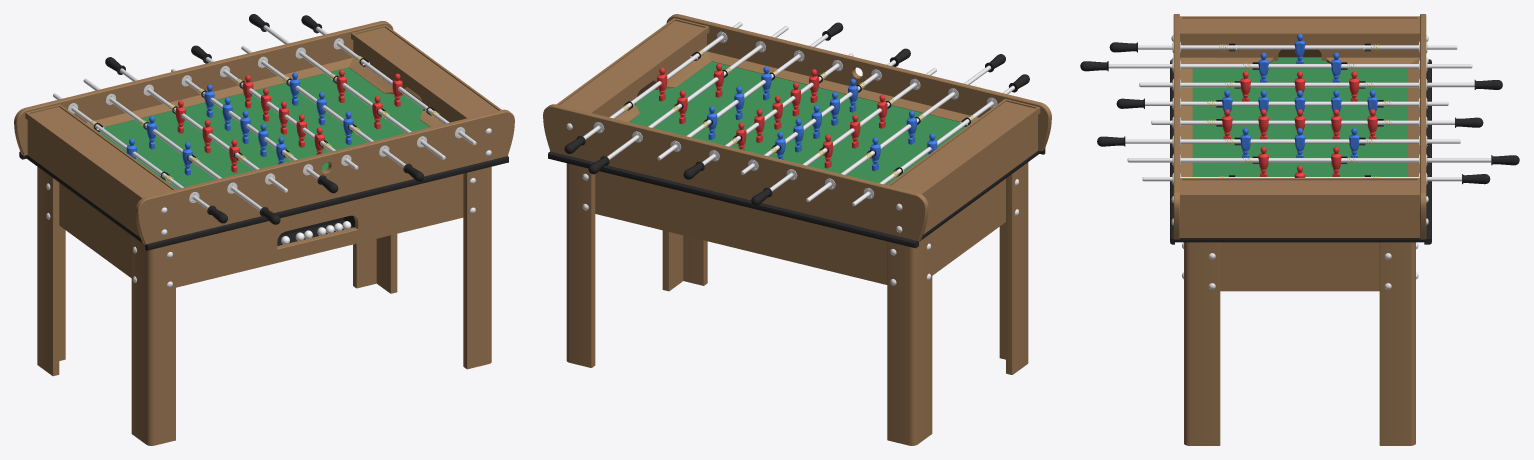
The model's file is futbolin_madrid.glb.
3 renders of one model, left to right at view 1: azimuth 30°, elevation 25°; view 2: azimuth 150°, elevation 25°; view 3: azimuth 270°, elevation 25°, orthographic.
Parts seen in each view (by area): view 1: Table_012, Table_008, Camp, Table_004, Table_009, Table_001, Table_014, Table_013, Table_007, Detail_04, Miter_01, Table_011 (+12 smaller); view 2: Table_012, Table_009, Camp, Table_005, Table_008, Table_001, Table_014, Table_013, Table_007, Detail_03, Miter_01, Table_011 (+12 smaller); view 3: Camp, Table_012, Table_000, Table_006, Table_014, Table_016, Table_013, Table_011, Table_010, Miter_01, Metal_05, Metal_07 (+12 smaller).
Boxes of the visible parts, box(x1,y1,x2,y2) form: Table_012: box(37, 166, 491, 445); Table_008: box(135, 109, 514, 244); Camp: box(95, 67, 429, 189); Table_004: box(176, 173, 463, 287); Table_009: box(14, 21, 393, 155); Table_001: box(27, 120, 140, 237); Table_014: box(30, 107, 172, 197); Table_013: box(356, 27, 497, 117); Table_007: box(59, 183, 131, 277); Detail_04: box(145, 156, 508, 250); Miter_01: box(86, 58, 352, 129); Table_011: box(25, 104, 175, 200); Table_012: box(566, 162, 1028, 445); Table_009: box(543, 104, 928, 241); Camp: box(629, 61, 969, 184); Table_005: box(595, 171, 887, 284); Table_008: box(666, 14, 1051, 151); Table_001: box(923, 115, 1037, 234); Table_014: box(891, 101, 1035, 193); Table_013: box(560, 20, 704, 112); Table_007: box(932, 178, 1005, 275); Detail_03: box(548, 151, 918, 248); Miter_01: box(707, 51, 978, 124); Table_011: box(887, 99, 1040, 197); Camp: box(1192, 57, 1407, 176); Table_012: box(1184, 242, 1415, 445); Table_000: box(1180, 200, 1419, 237); Table_006: box(1220, 242, 1379, 291); Table_014: box(1182, 18, 1417, 32); Table_016: box(1180, 39, 1419, 60); Table_013: box(1182, 180, 1417, 193); Table_011: box(1180, 16, 1419, 39); Table_010: box(1180, 178, 1419, 200); Miter_01: box(1180, 58, 1419, 176); Metal_05: box(1139, 82, 1474, 87); Metal_07: box(1127, 158, 1491, 162).
Size of what is drawn, in the model's own units: 1.4 by 0.9097 by 1.39.
